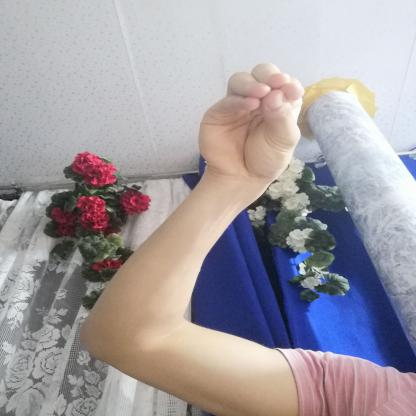HA: (176, 49, 326, 193)
